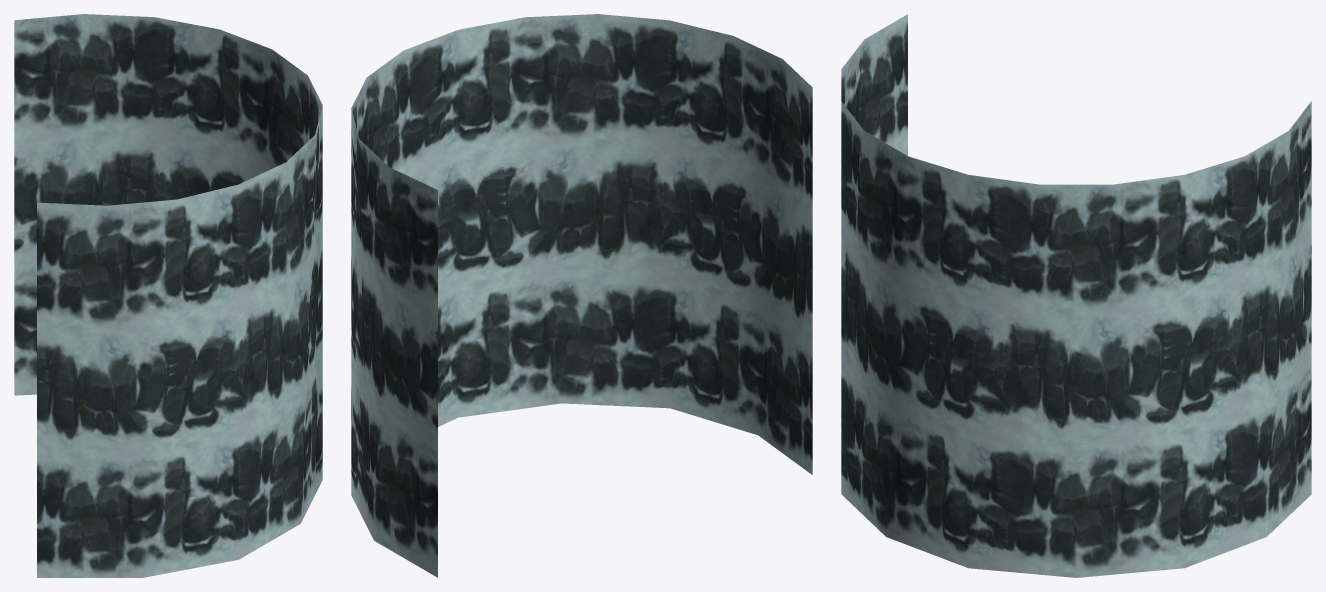
Rendered from terrain_section05_guanka10_dimian06.FBX.
3 views of the same model, side by side, from view 1: azimuth 30°, elevation 25°; view 2: azimuth 150°, elevation 25°; view 3: azimuth 270°, elevation 25° (orthographic). The views are drawn at different scales.
Parts seen in each view (by area): view 1: terrain_section05_guanka10_dimian06; view 2: terrain_section05_guanka10_dimian06; view 3: terrain_section05_guanka10_dimian06.
Part boxes in pixels (x1,y1,x2,y2): terrain_section05_guanka10_dimian06: [14, 14, 322, 577]; terrain_section05_guanka10_dimian06: [351, 14, 812, 577]; terrain_section05_guanka10_dimian06: [841, 14, 1311, 577].
Size of the model in its own units: 38.61 by 45 by 41.54.
